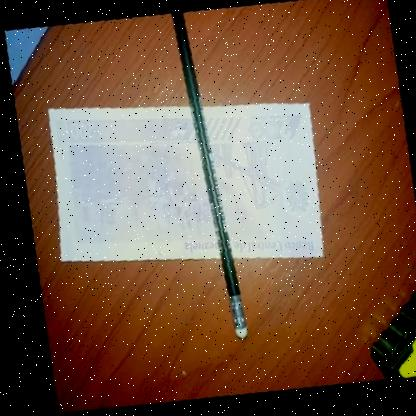two_hundred-back-vef: (23, 62, 342, 305)
